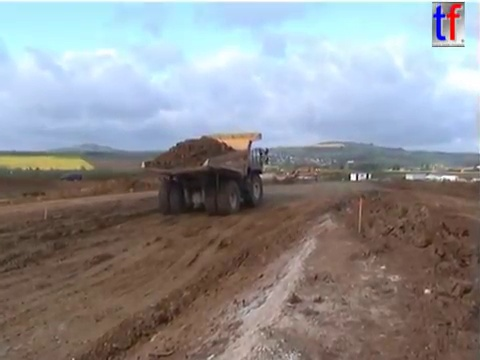truck: (138, 131, 270, 216)
